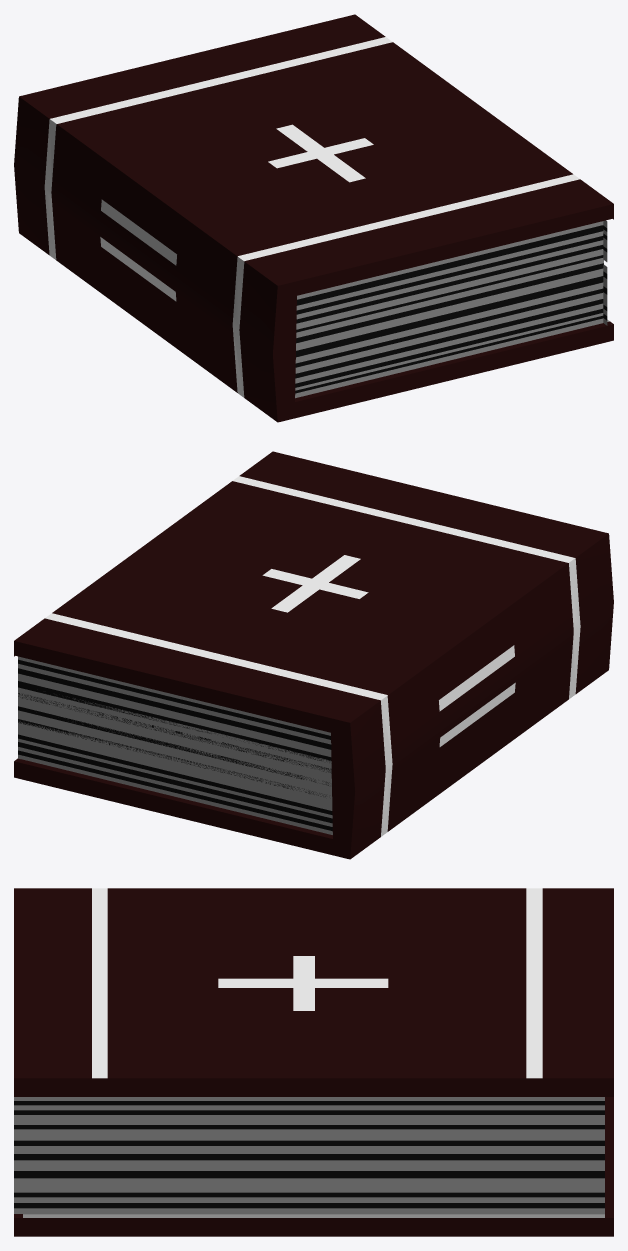
File: bible.FBX
3 views of the same model, one above another, from view 1: azimuth 30°, elevation 25°; view 2: azimuth 150°, elevation 25°; view 3: azimuth 270°, elevation 25° (orthographic). The views are drawn at different scales.
Visible parts, largest first — view 1: Box001; view 2: Box001; view 3: Box001.
Boxes of the visible parts, box(x1,y1,x2,y2) form: Box001: box(14, 14, 613, 422); Box001: box(14, 451, 613, 859); Box001: box(14, 888, 613, 1236).
Size of the model in its own units: 15.22 by 5.83 by 20.
